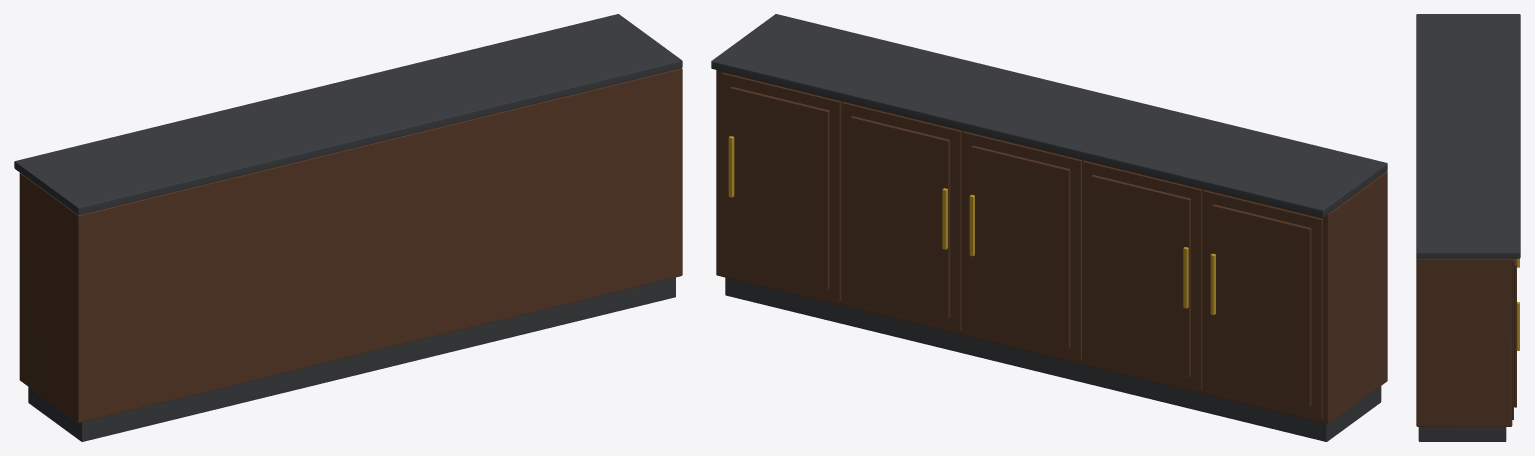
File: prop_sideboard_w240.glb
3 views of the same model, side by side, from view 1: azimuth 30°, elevation 25°; view 2: azimuth 150°, elevation 25°; view 3: azimuth 270°, elevation 25° (orthographic). The views are drawn at different scales.
Visible parts, largest first — view 1: Cabinet; view 2: Cabinet; view 3: Cabinet.
Boxes of the visible parts, x1,y1,x2,y2 form: Cabinet: [14, 14, 682, 441]; Cabinet: [711, 14, 1387, 441]; Cabinet: [1416, 14, 1520, 441].
Size of what is drawn, in the model's own units: 2.39 by 0.895 by 0.44.
